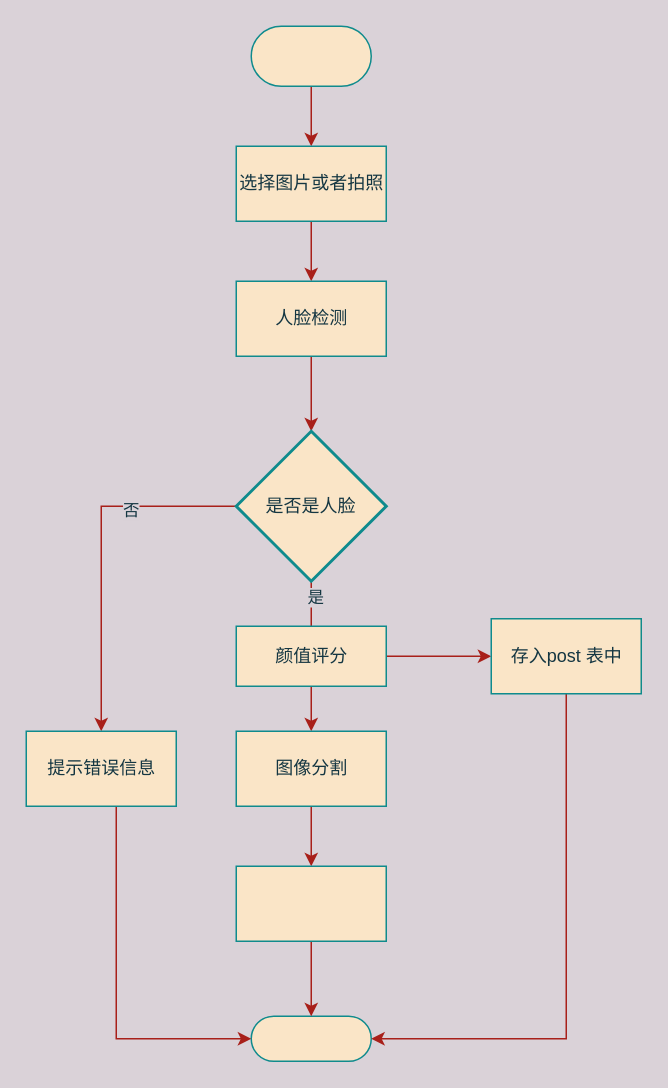
Image size: 668x1088. Some labels were removed from this diagram. Here are the shapes that lost their labels. From the top down, the centre of each, then its label:
At (x=310, y=55): "开始".
At (x=310, y=903): "MASK 文件保存".
At (x=310, y=1038): "结束".
